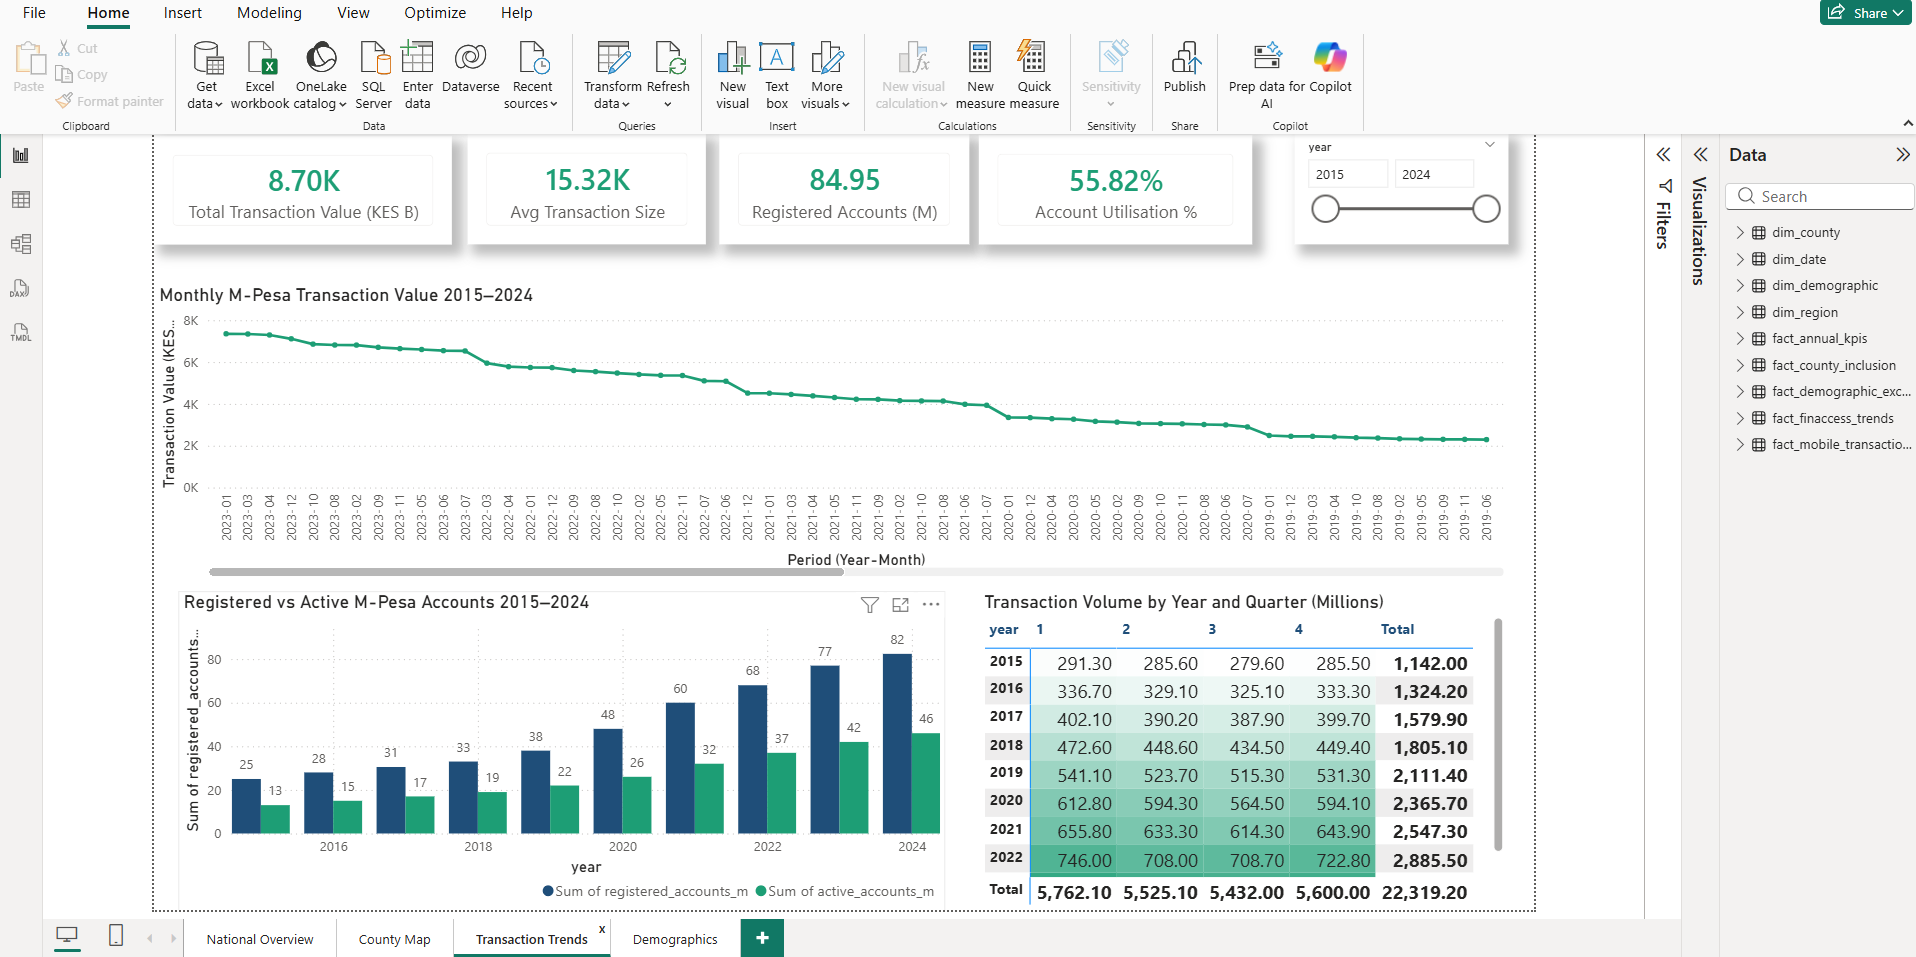

The page's visual inventory and layout, read from the dashboard file:
{"tool":"powerbi","page":{"name":"Transaction Trends","canvas":[1280,720],"ordinal":2},"visuals":[{"type":"cardVisual","title":"Total Transaction Value","fields":{"Data":["fact_annual_kpis.Total Txn Value (KES B)"]},"box":[0,2,276.5,100.4],"z":0},{"type":"cardVisual","title":"Average Transaction Size","fields":{"Data":["fact_mobile_transactions.Avg Txn Size (KES)"]},"box":[290.8,0,221.2,102.4],"z":1000},{"type":"cardVisual","title":"Registered Accounts","fields":{"Data":["fact_mobile_transactions.Registered Accounts (M)"]},"box":[524.3,0,231.4,102.4],"z":2000},{"type":"lineChart","title":"Monthly M-Pesa Transaction Value 2015–2024","fields":{"Category":["fact_mobile_transactions.period"],"Y":["Sum(fact_mobile_transactions.txn_value_kes_b)"]},"box":[0,139.3,1256.4,275.5],"z":3000},{"type":"slicer","fields":{"Values":["fact_mobile_transactions.year"]},"box":[1057.8,0,198.7,102.4],"z":4000},{"type":"pivotTable","title":"Transaction Volume by Year and Quarter (Millions)","fields":{"Columns":["dim_date.quarter"],"Rows":["dim_date.year"],"Values":["Sum(fact_mobile_transactions.txn_volume_m)"]},"box":[764.9,423.9,491.5,295.9],"z":5000},{"type":"clusteredColumnChart","title":"Registered vs Active M-Pesa Accounts 2015–2024","fields":{"Category":["fact_annual_kpis.year"],"Y":["Sum(fact_annual_kpis.registered_accounts_m)","Sum(fact_annual_kpis.active_accounts_m)"]},"box":[22.5,423.9,711.7,297],"z":6000},{"type":"cardVisual","fields":{"Data":["fact_mobile_transactions.Account Utilisation %"]},"box":[764.9,1,254,101.4],"z":7000}]}

Visuals, with their boxes on the page's 1280x720 design canvas (x1, y1, x2, y2). These are canvas units, not pixel positions in the 1916x957 screenshot, which may show the page scaled, cropped or inside an application window:
"Total Transaction Value" cardVisual: pyautogui.locateOnScreen(0, 2, 276, 102)
"Average Transaction Size" cardVisual: pyautogui.locateOnScreen(291, 0, 512, 102)
"Registered Accounts" cardVisual: pyautogui.locateOnScreen(524, 0, 756, 102)
"Monthly M-Pesa Transaction Value 2015–2024" lineChart: pyautogui.locateOnScreen(0, 139, 1256, 415)
slicer - fact_mobile_transactions.year: pyautogui.locateOnScreen(1058, 0, 1256, 102)
"Transaction Volume by Year and Quarter (Millions)" pivotTable: pyautogui.locateOnScreen(765, 424, 1256, 720)
"Registered vs Active M-Pesa Accounts 2015–2024" clusteredColumnChart: pyautogui.locateOnScreen(22, 424, 734, 721)
cardVisual - fact_mobile_transactions.Account Utilisation %: pyautogui.locateOnScreen(765, 1, 1019, 102)
